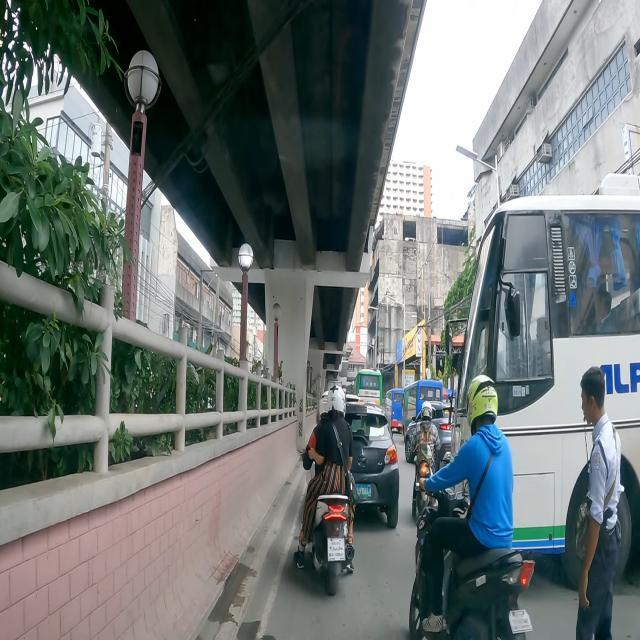bus: (447, 172, 640, 598), (401, 378, 443, 440), (353, 367, 383, 405), (384, 388, 404, 432)
car: (344, 400, 400, 530), (404, 400, 454, 472)
motorcycle: (405, 373, 536, 639), (292, 386, 355, 596), (412, 400, 442, 518)
